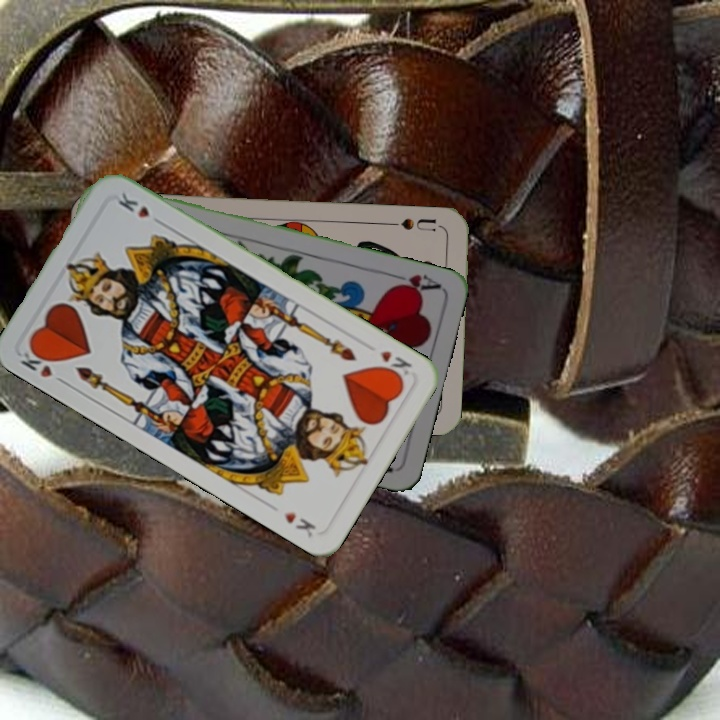HA: (384, 268, 443, 297)
HK: (17, 341, 70, 388), (375, 346, 415, 384)
SU: (385, 214, 444, 234)
